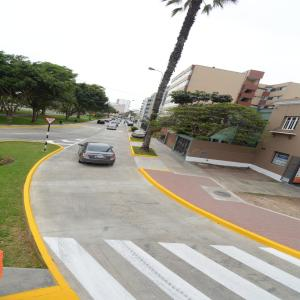Vehicle-registration-plate: (97, 157, 104, 159)
